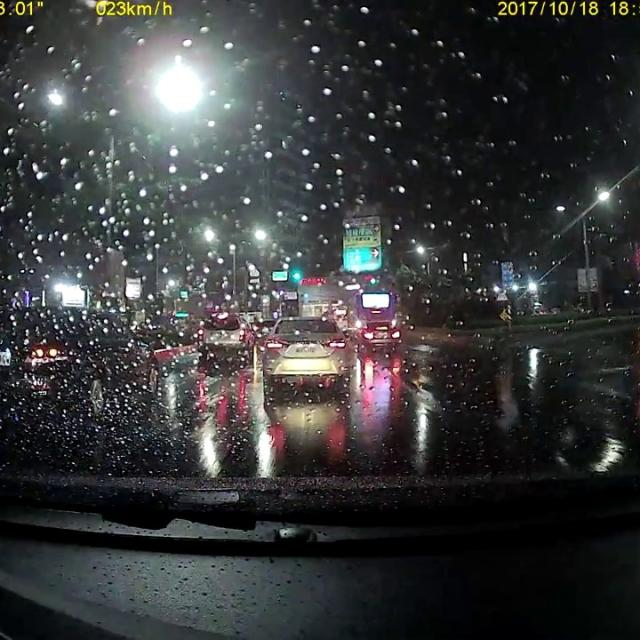Car: (0, 303, 160, 427), (259, 313, 355, 402), (194, 309, 256, 356), (358, 318, 401, 352)
